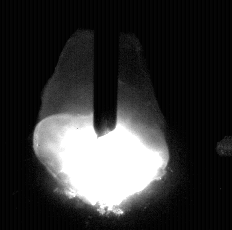arame: (94, 0, 119, 136)
poca: (32, 0, 166, 230)
